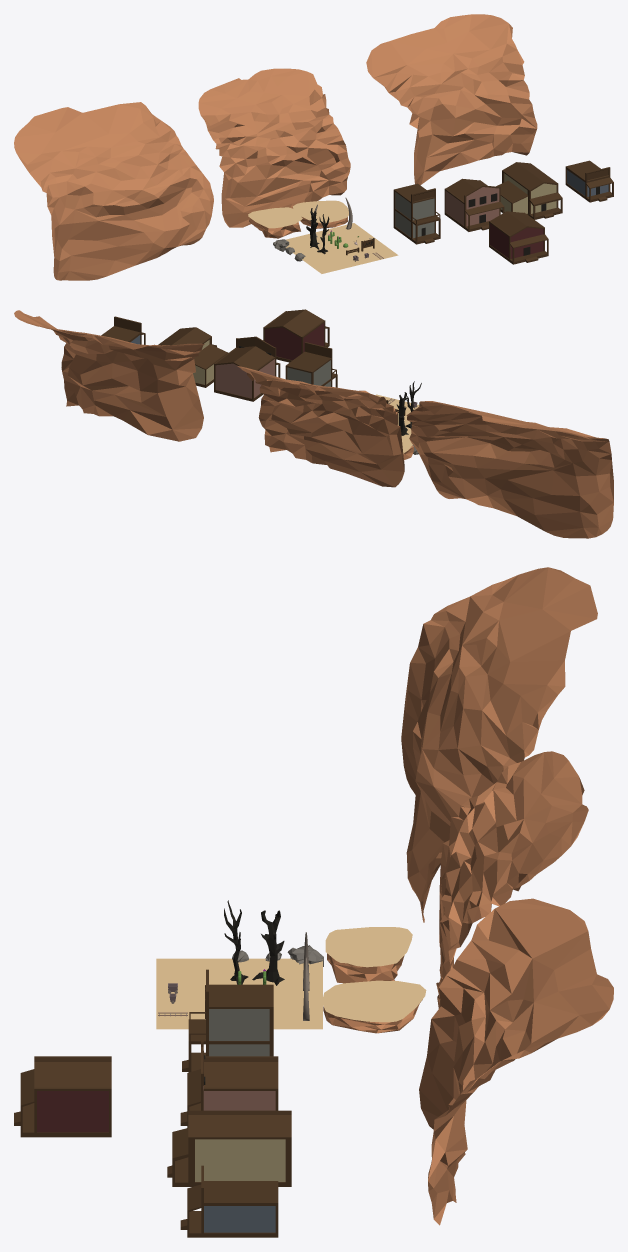
File: ICTP camp game map assests.fbx
3 renders of one model, top to bottom at view 1: azimuth 30°, elevation 25°; view 2: azimuth 150°, elevation 25°; view 3: azimuth 270°, elevation 25°, orthographic. The views are drawn at different scales.
Visible parts, largest first — view 1: Gliff3, Cliff2, Cliff1, Plane, Frame3, Frame2.2, Frame1, Frame2, Frame4, Building2, Building1, Building2.2 (+5 smaller); view 2: Gliff3, Cliff2, Cliff1, Frame2, Frame3, Building2, Frame2.2, Building2.2, Frame1, Frame4, Building1, Building3 (+1 smaller); view 3: Gliff3, Cliff2, Cliff1, Plane, Frame3, Frame2.2, Building3, Frame2, Sanded1, Frame4, Frame1, Building2.2 (+7 smaller).
Boxes of the visible parts, x1,y1,x2,y2 form: Gliff3: (14,102,213,280); Cliff2: (366,14,537,185); Cliff1: (198,68,350,227); Plane: (285,223,398,273); Frame3: (496,162,562,219); Frame2.2: (489,211,548,264); Frame1: (393,183,440,244); Frame2: (444,178,504,231); Frame4: (565,160,613,202); Building2: (445,187,499,226); Building1: (395,192,434,238); Building2.2: (490,223,543,258); Gliff3: (406,401,613,538); Cliff2: (14,310,204,441); Cliff1: (237,365,404,487); Frame2: (214,336,280,401); Frame3: (158,327,228,387); Building2: (215,359,274,398); Frame2.2: (263,309,329,362); Building2.2: (265,323,324,360); Frame1: (285,342,337,387); Frame4: (101,316,145,344); Building1: (287,360,330,386); Building3: (193,340,213,384); Gliff3: (401,567,597,922); Cliff2: (419,898,613,1225); Cliff1: (436,751,588,1008); Plane: (156,958,322,1029); Frame3: (167,1110,291,1186); Frame2.2: (14,1056,111,1137); Building3: (195,1139,285,1181); Frame2: (180,1041,278,1127); Sanded1: (322,980,426,1022); Frame4: (180,1165,278,1237); Frame1: (182,969,273,1072); Building2.2: (37,1091,108,1132).
Size of the model in its own units: 33172 by 17994 by 8350.
